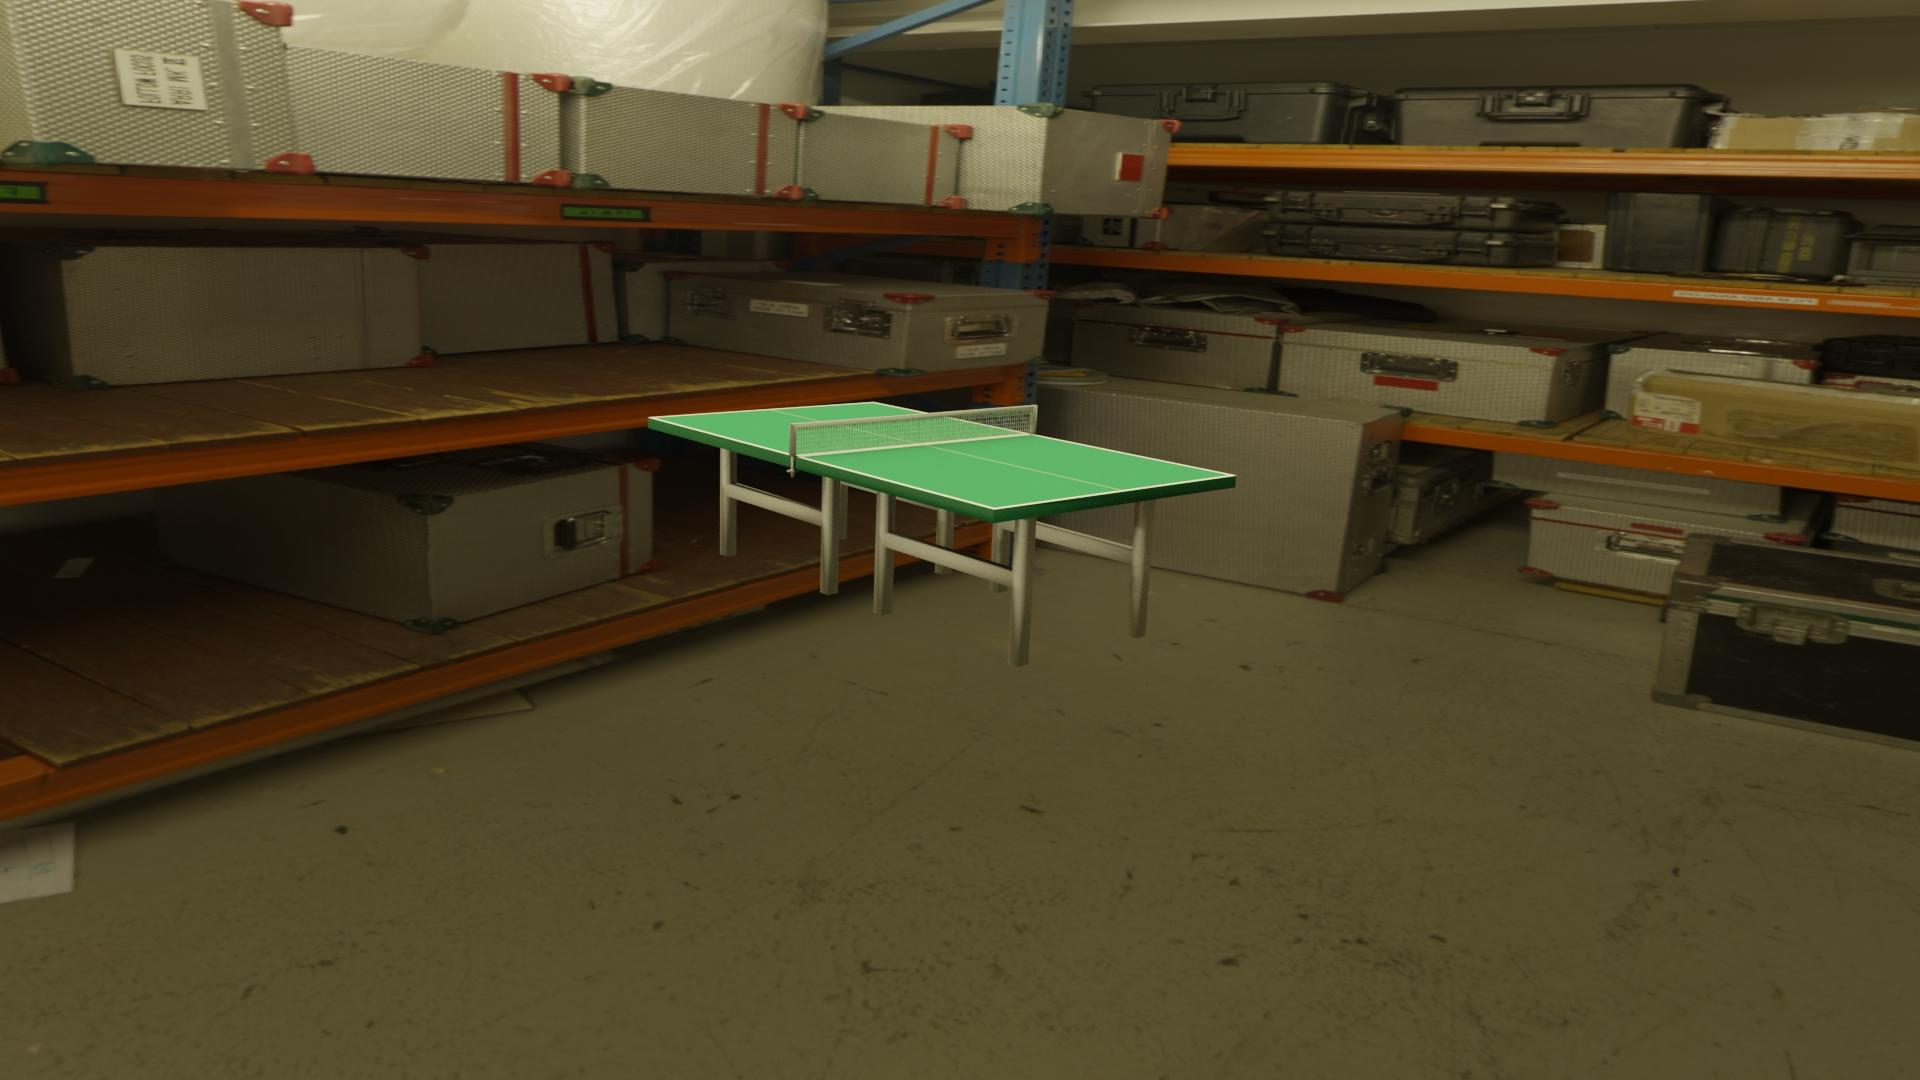table: (653, 402, 1230, 508)
